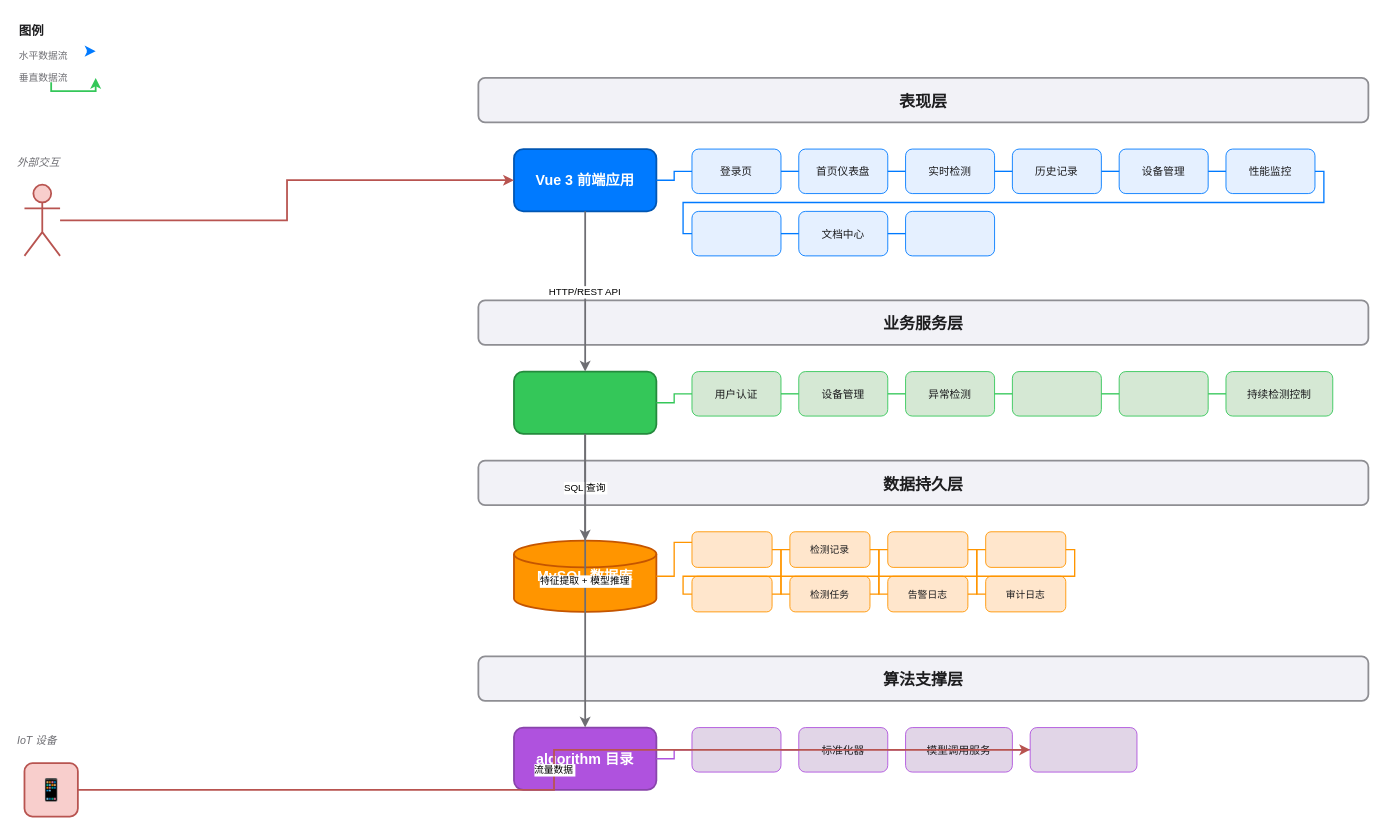
This 1384x832 diagram has some shape labels left out. The shapes that lost their labels are listed below. From the top down, each one's centre as x and y in pixels, then its label:
At point 42,219: "用户".
At point 736,233: "操作日志".
At point 950,233: "个人信息".
At point 585,402: "Django + DRF".
At point 1056,393: "告警管理".
At point 1163,393: "日志审计".
At point 731,549: "用户信息".
At point 927,549: "持续检测配置".
At point 1025,549: "系统日志".
At point 731,593: "设备信息".
At point 736,749: "预训练模型".
At point 1083,749: "14维特征向量".
